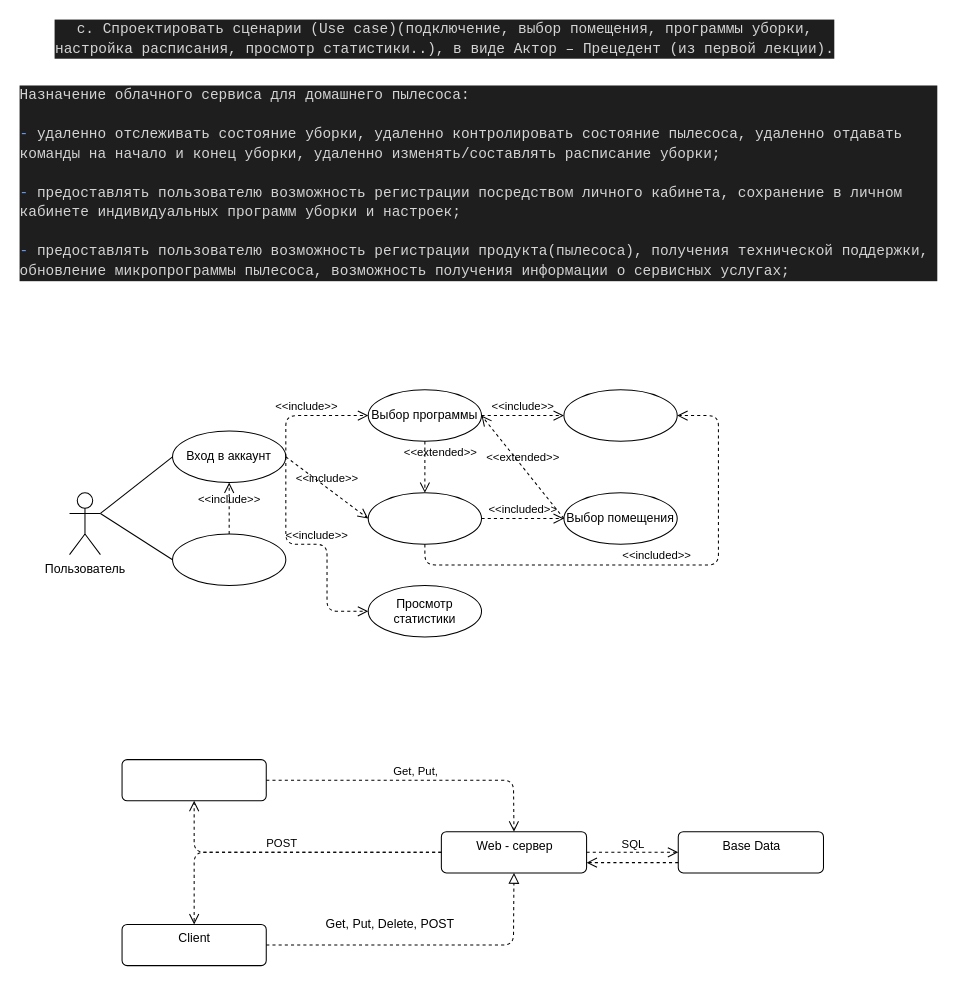
Image size: 955x984. Some labels were removed from this diagram. The shapes that lost their labels are listed below. From the top down, each one's centre as x and y in pixels, then its label:
(x=620, y=415): Запуск
(x=424, y=518): Настройка расписания
(x=228, y=559): Регистрация аккаунта
(x=193, y=780): Пылесос
